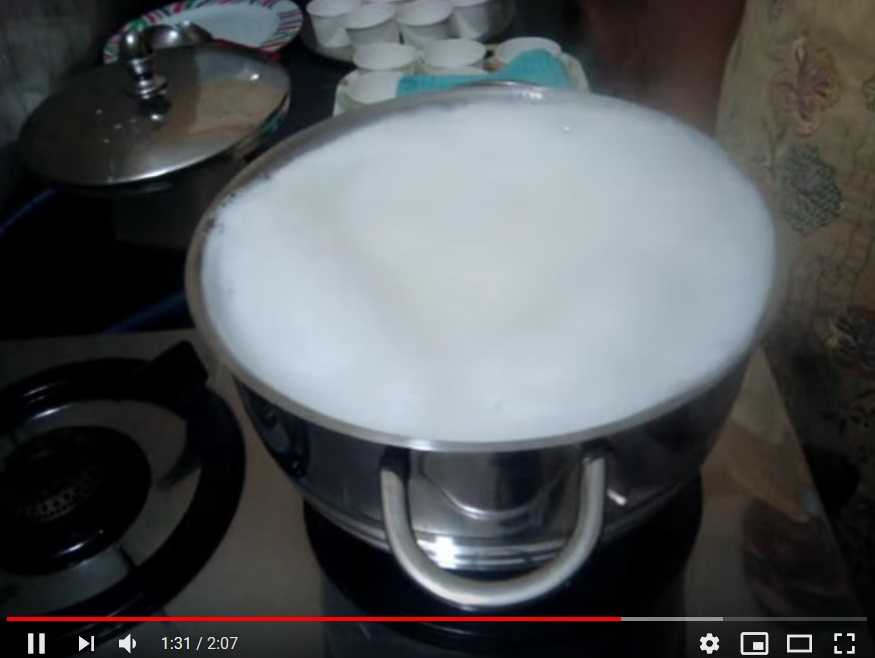Boiled: (167, 78, 782, 507)
